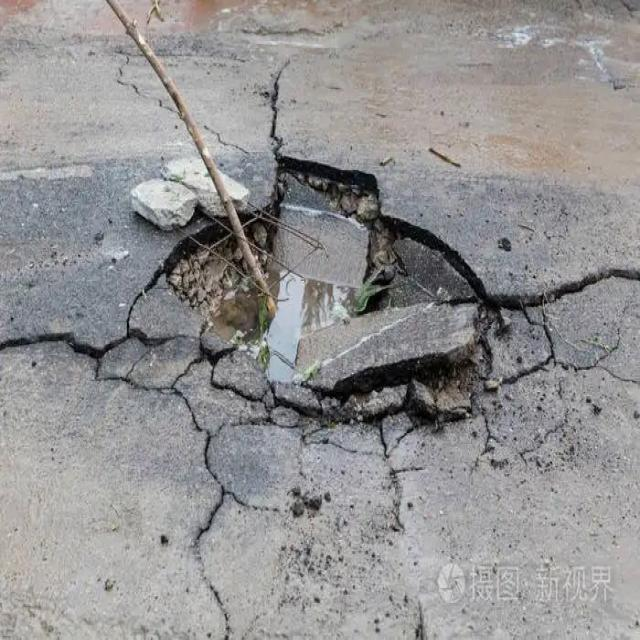Pothole: (109, 150, 501, 463)
